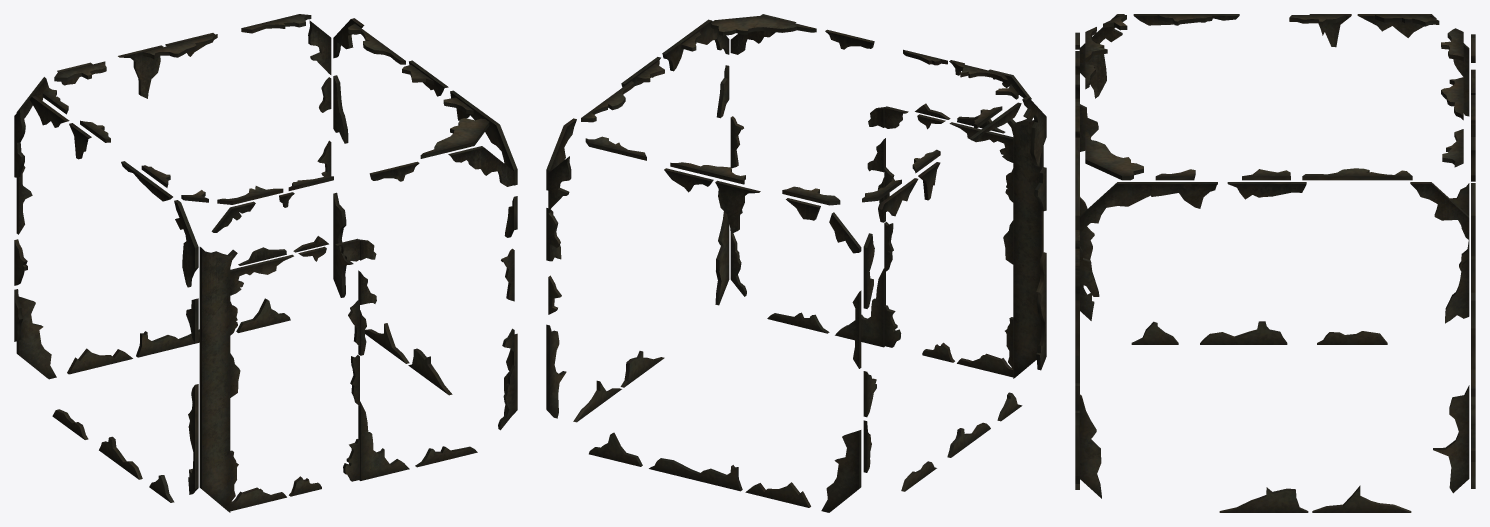
The model's file is 03_02_containment_cube_glass_broken.dae.
3 views of the same model, side by side, from view 1: azimuth 30°, elevation 25°; view 2: azimuth 150°, elevation 25°; view 3: azimuth 270°, elevation 25° (orthographic). The views are drawn at different scales.
Visible parts, largest first — view 1: glass_broken; view 2: glass_broken; view 3: glass_broken.
Part boxes in pixels (<box>): glass_broken: <box>14,14,517,512</box>; glass_broken: <box>546,14,1046,512</box>; glass_broken: <box>1075,14,1475,512</box>.
Bounding box in the file's own units: 3.81 × 3.47 × 3.79.
